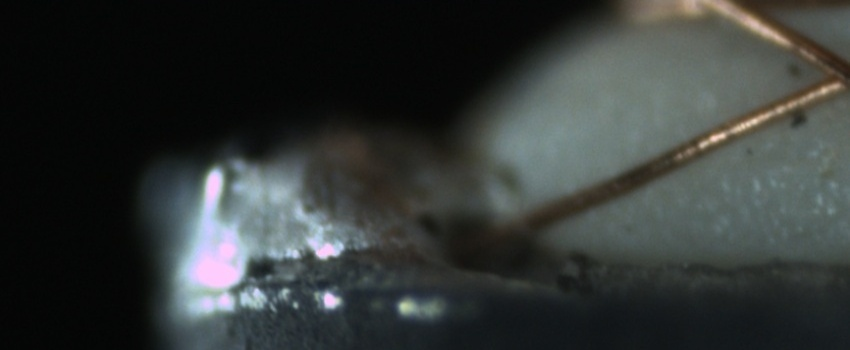CL: (792, 38, 850, 106)
